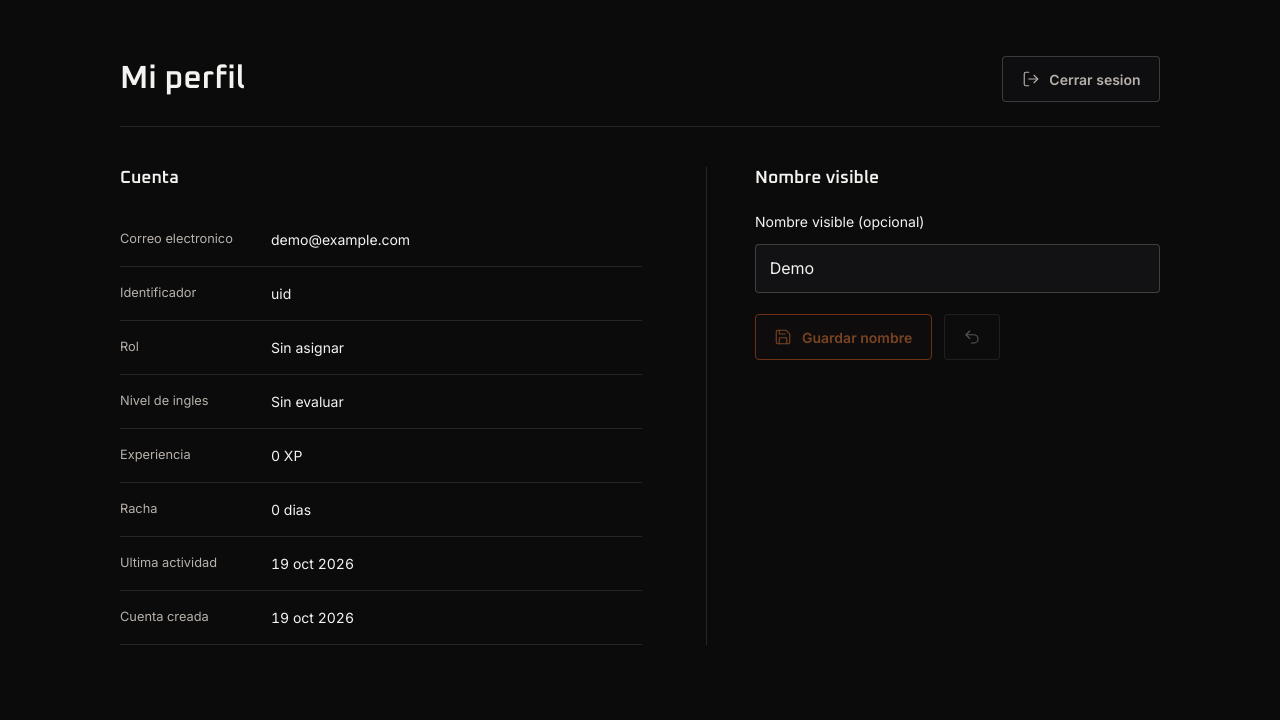
Test case: perfil › descarta cambios sin escribir al servidor
Replace the text in the field labelled "Nombre visible (opcional)" with "Otro nombre" at [958, 268], box [755,244,1160,293]
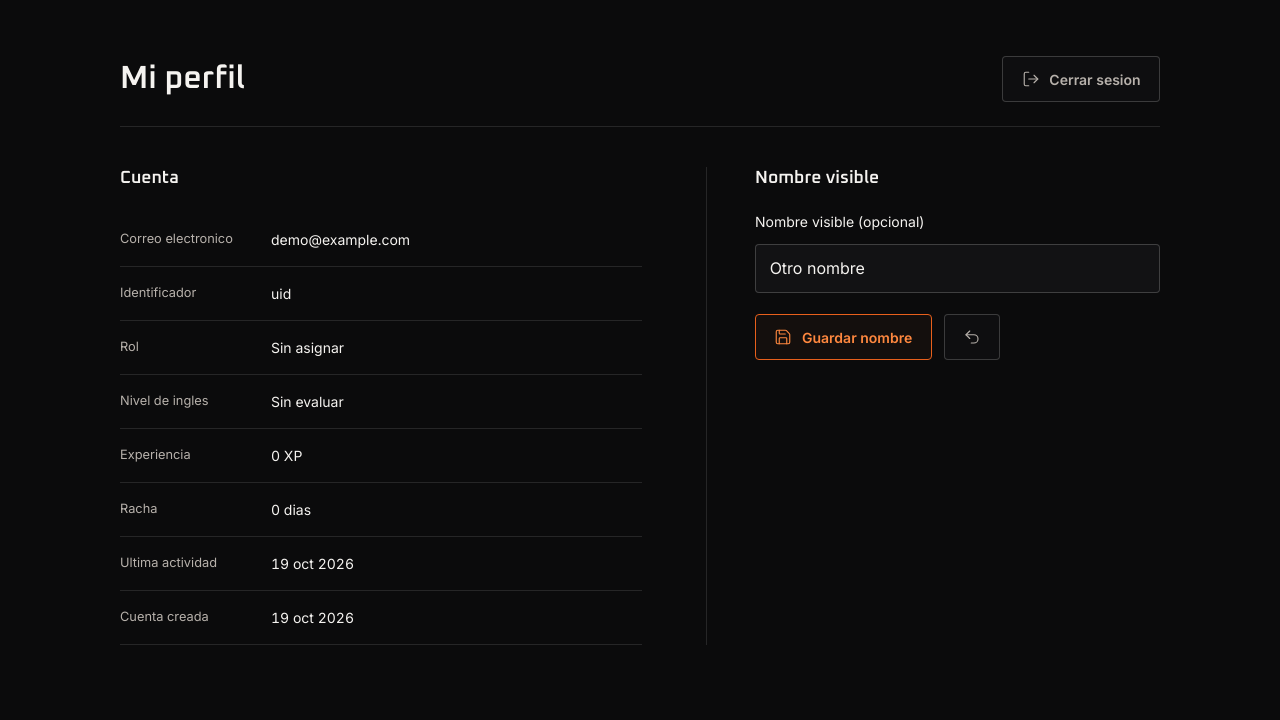
Click the button named "Descartar cambios" at [972, 337], box [944,314,1000,360]
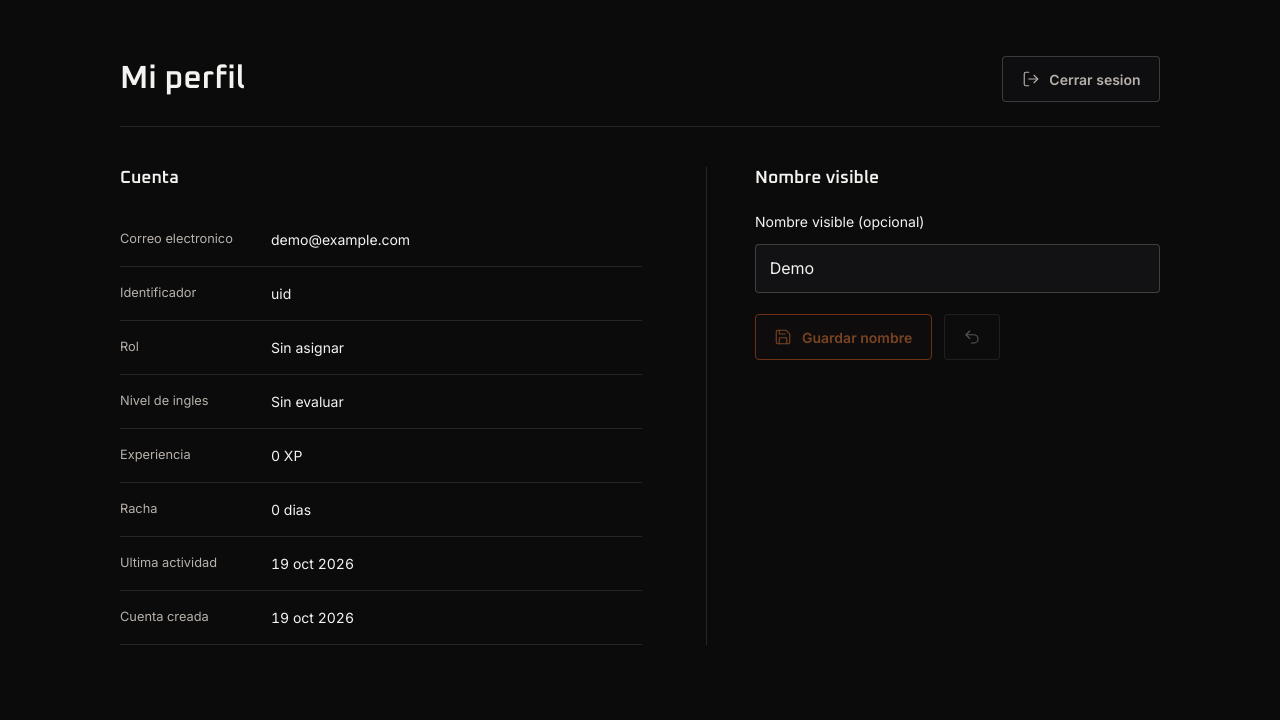
Expected: the field labelled "Nombre visible (opcional)" holds "Demo", [755,244,1160,293]
